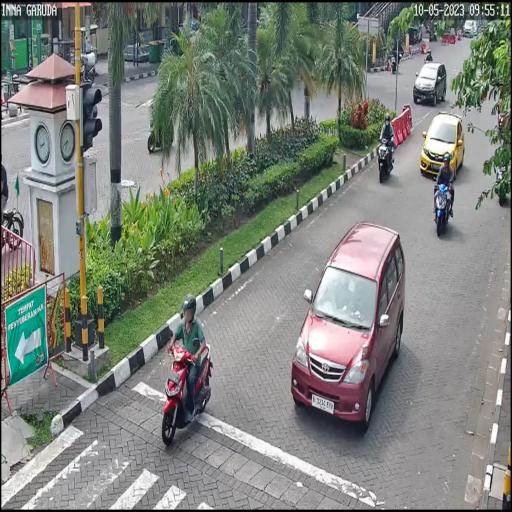mobil: (289, 221, 405, 433), (420, 114, 466, 182), (412, 60, 448, 108)
motor: (160, 328, 212, 448), (431, 174, 455, 238), (374, 129, 398, 186)
